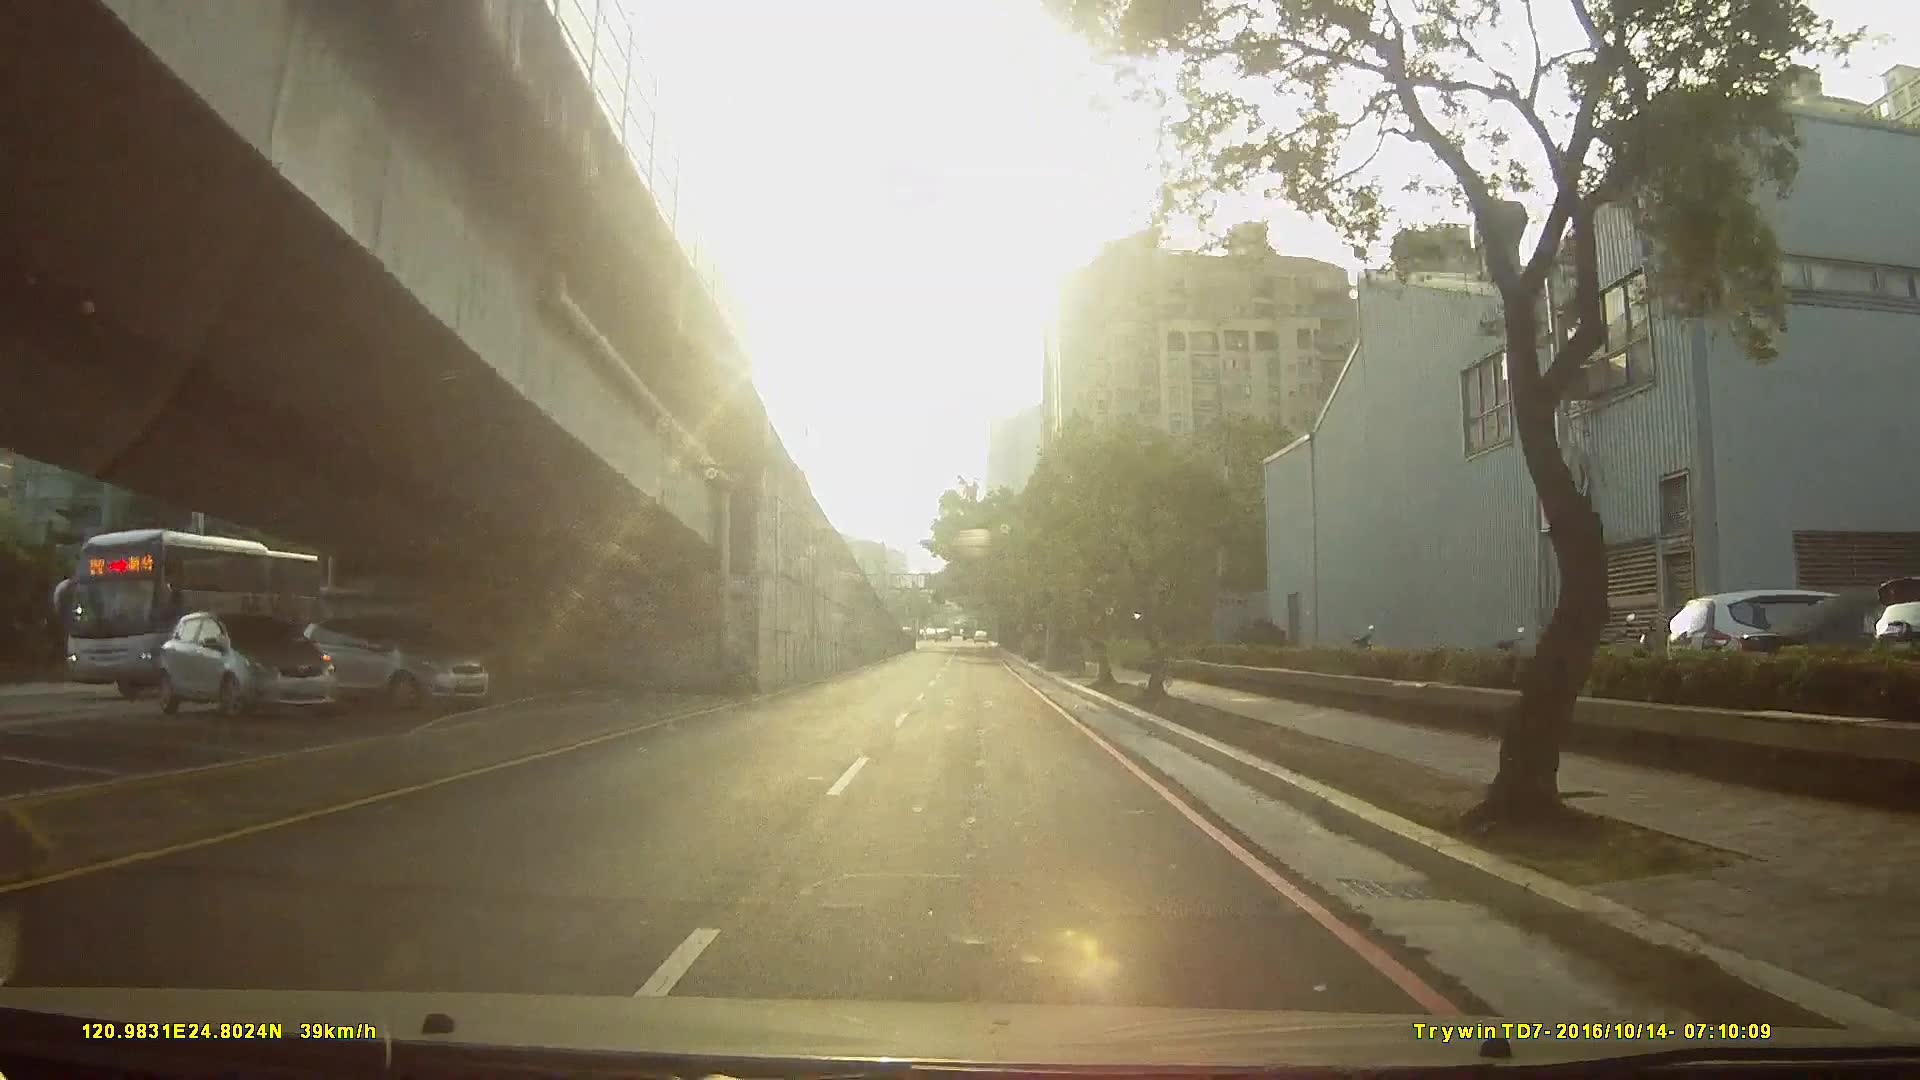vehicle: (41, 518, 331, 707), (278, 612, 508, 712), (142, 604, 326, 721)
